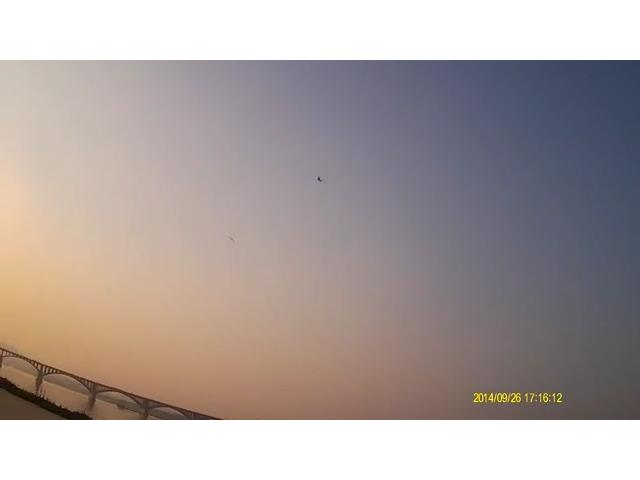Anti-Drone: (311, 166, 331, 190)
